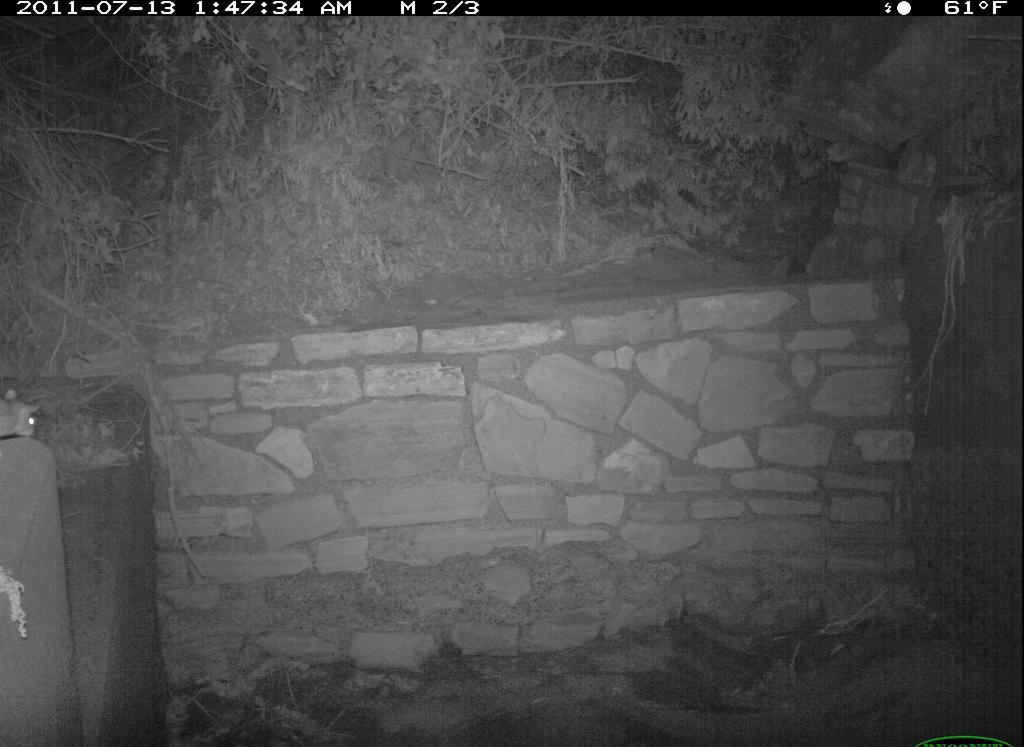rodent: (4, 376, 58, 456)
